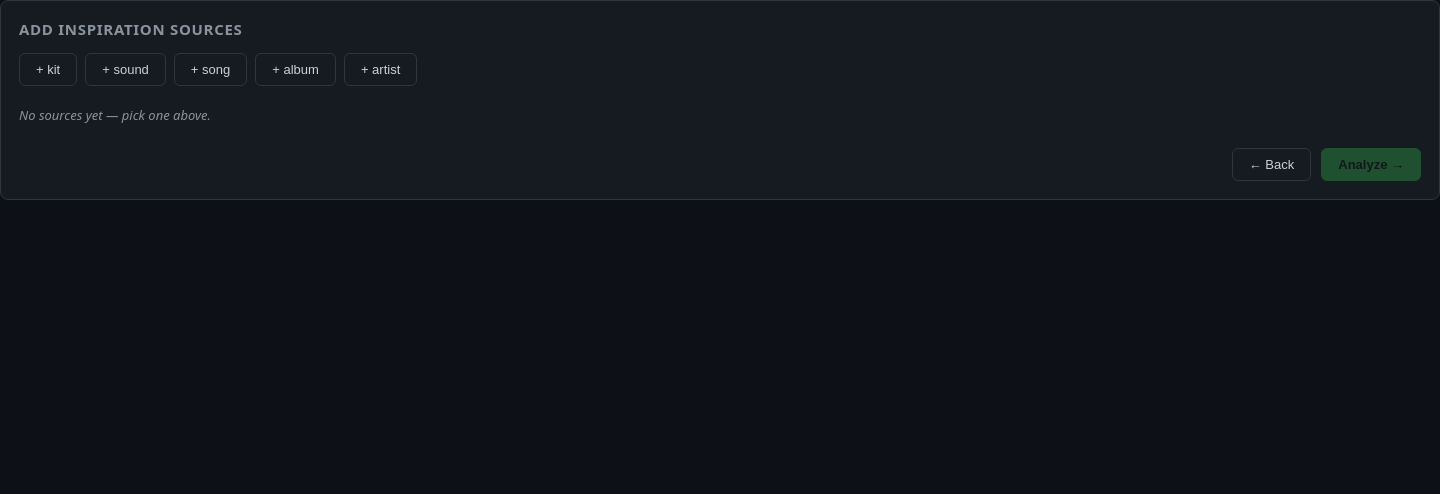
Scenario: AddStep — dialog opener (injected for determinism) › default dialog opener (no injection) shows a paste-path fallback when the Tauri plugin is unavailable
Click the button with test id "wizard-add-kit". click: (48, 70)
box: [19,53,77,86]
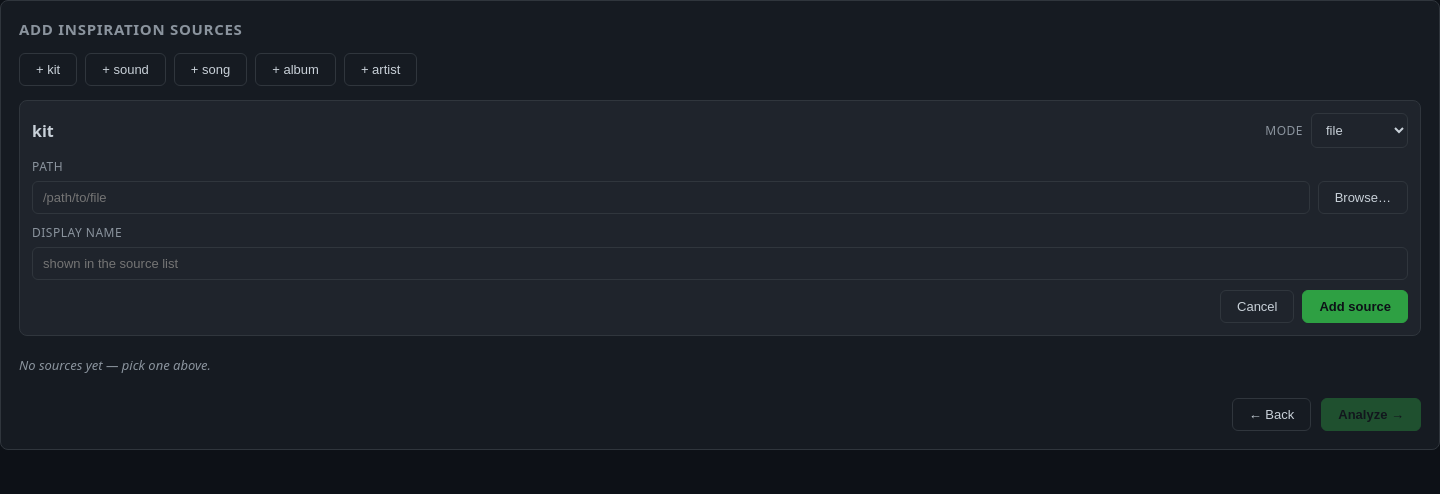
Click the button with test id "wizard-draft-browse". click: (1363, 198)
box: [1318,181,1408,214]
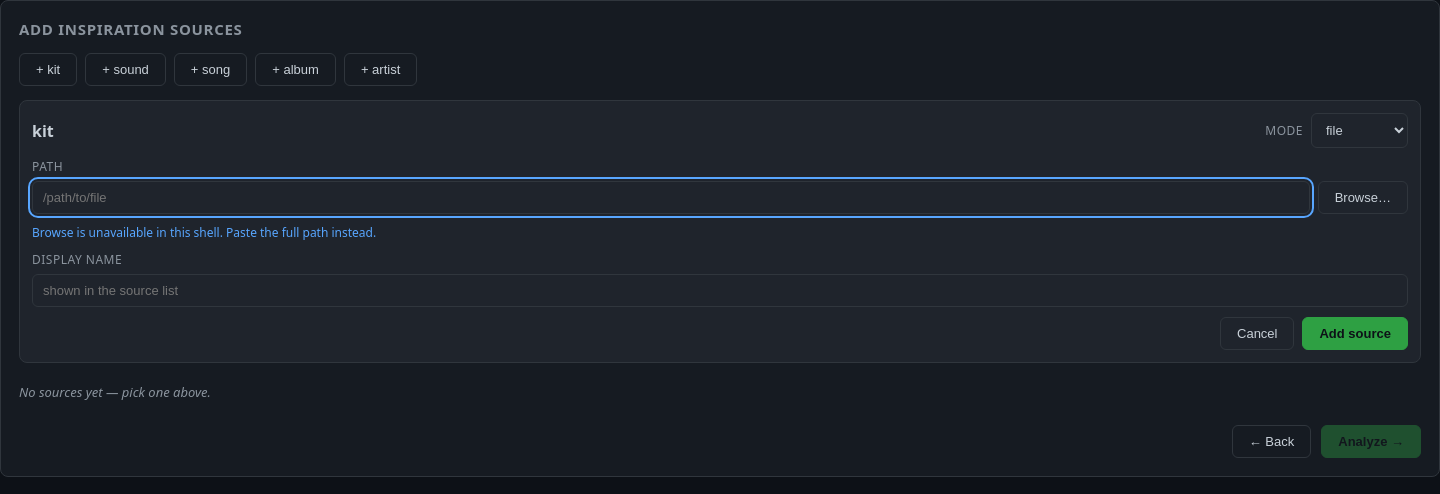
Now the field with test id "wizard-draft-location" is empty, box [32,181,1310,214]
Now the message reads "Browse is unavailable in this shell. Paste the full path instead.", box [32,224,376,241]
